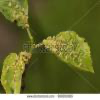Apple rust leaf: (42, 33, 95, 76)
